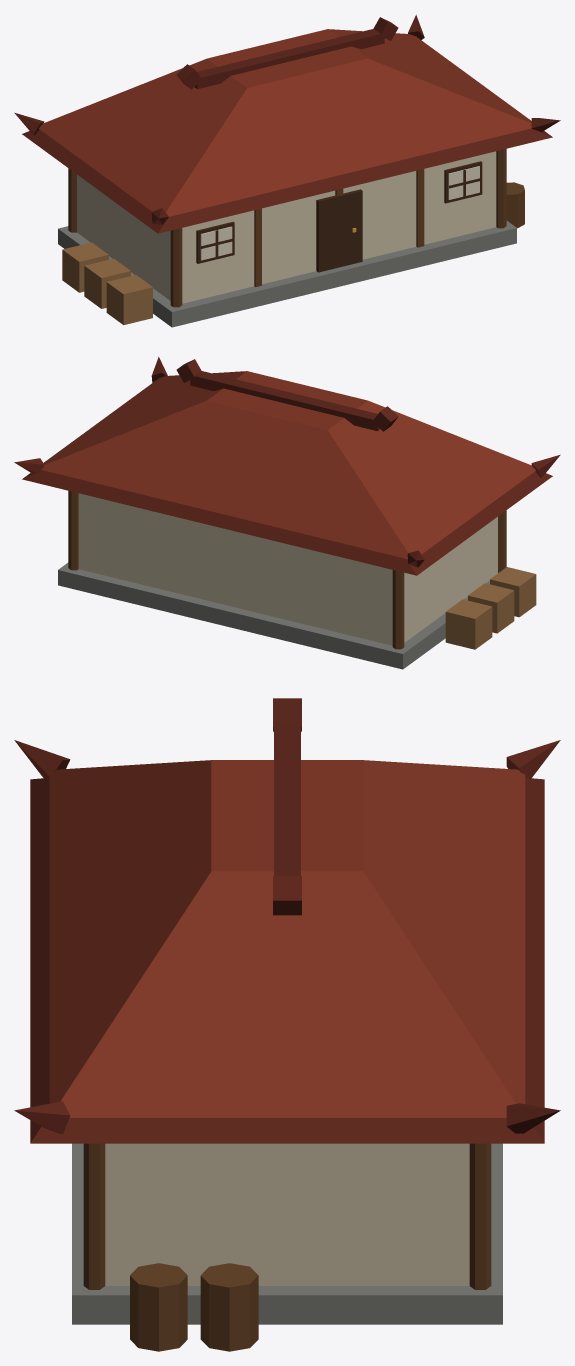
Rendered from SM_GZ_warehouse_ember.fbx.
3 renders of one model, top to bottom at view 1: azimuth 30°, elevation 25°; view 2: azimuth 150°, elevation 25°; view 3: azimuth 270°, elevation 25°, orthographic. The views are drawn at different scales.
Parts seen in each view (by area): view 1: SM_GZ_warehouse_ember; view 2: SM_GZ_warehouse_ember; view 3: SM_GZ_warehouse_ember.
Boxes of the visible parts, box(x1,y1,x2,y2) form: SM_GZ_warehouse_ember: box(14, 14, 560, 327); SM_GZ_warehouse_ember: box(14, 356, 560, 669); SM_GZ_warehouse_ember: box(14, 698, 560, 1351).
Size of the model in its own units: 1385 by 649 by 850.
